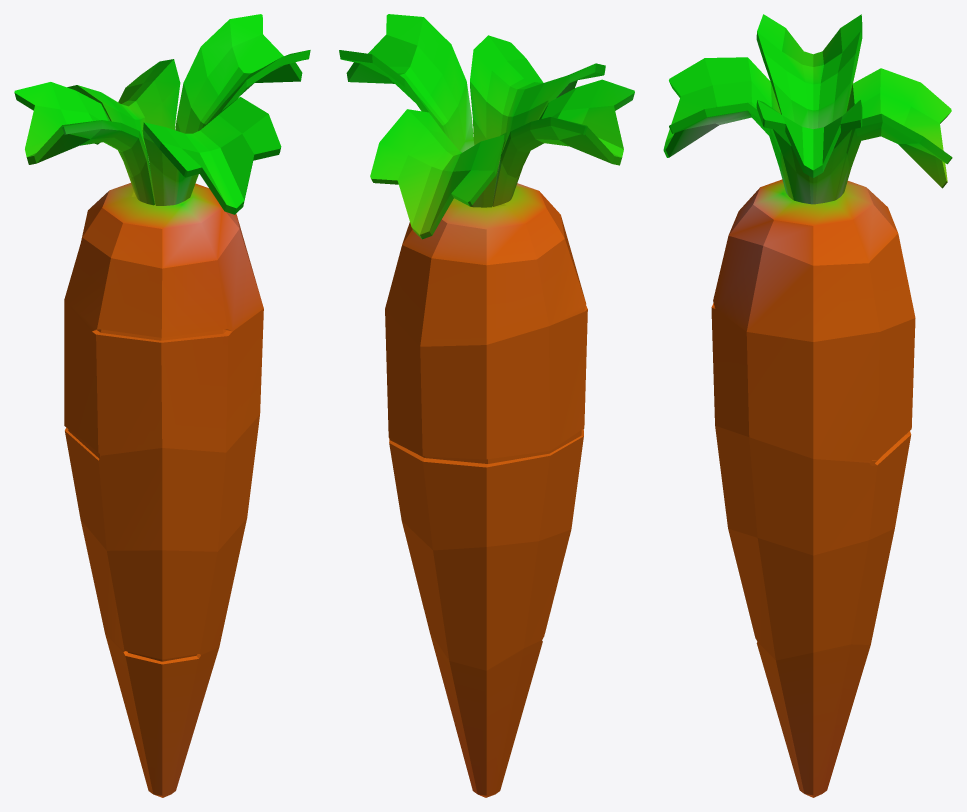
File: Carrots.fbx
3 renders of one model, left to right at view 1: azimuth 30°, elevation 25°; view 2: azimuth 150°, elevation 25°; view 3: azimuth 270°, elevation 25°, orthographic.
Parts seen in each view (by area): view 1: Plane155; view 2: Plane155; view 3: Plane155.
Part boxes in pixels (box(x1,y1,x2,y2)): Plane155: box(14, 14, 310, 797); Plane155: box(339, 14, 634, 797); Plane155: box(663, 14, 952, 797).
Bounding box in the file's own units: 255 × 656 × 232.
